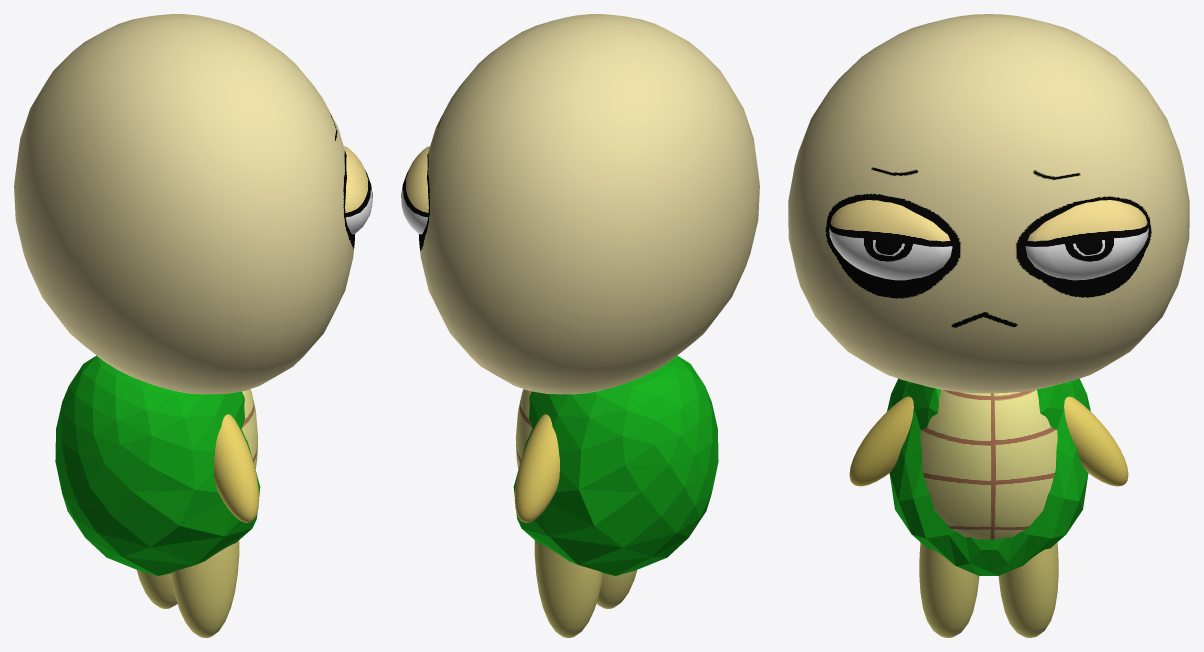
Rendered from turtle_moving.glb.
3 renders of one model, left to right at view 1: azimuth 30°, elevation 25°; view 2: azimuth 150°, elevation 25°; view 3: azimuth 270°, elevation 25°, orthographic. The views are drawn at different scales.
Visible parts, largest first — view 1: Sphere, Icosphere, Sphere.002, Sphere.003, Sphere.004, Sphere.001; view 2: Sphere, Icosphere, Sphere.002, Sphere.003, Sphere.004, Sphere.001; view 3: Sphere, Sphere.001, Sphere.004, Icosphere, Sphere.002, Sphere.003.
Part boxes in pixels (left/top/right/bottom): Sphere: left=14, top=14, right=354, bottom=394; Icosphere: left=55, top=355, right=260, bottom=575; Sphere.002: left=136, top=540, right=239, bottom=637; Sphere.003: left=214, top=414, right=259, bottom=522; Sphere.004: left=344, top=146, right=372, bottom=234; Sphere.001: left=241, top=389, right=258, bottom=469; Sphere: left=419, top=14, right=759, bottom=394; Icosphere: left=513, top=355, right=718, bottom=575; Sphere.002: left=534, top=540, right=637, bottom=637; Sphere.003: left=514, top=414, right=559, bottom=522; Sphere.004: left=401, top=146, right=429, bottom=234; Sphere.001: left=515, top=389, right=532, bottom=469; Sphere: left=788, top=14, right=1189, bottom=393; Sphere.001: left=920, top=389, right=1057, bottom=539; Sphere.004: left=829, top=200, right=1148, bottom=280; Icosphere: left=887, top=378, right=1090, bottom=575; Sphere.002: left=919, top=542, right=1058, bottom=637; Sphere.003: left=849, top=396, right=1128, bottom=486.
Bounding box in the file's own units: 1.72 × 3.47 × 2.08.
Materials: 6 (3 with a texture image).
